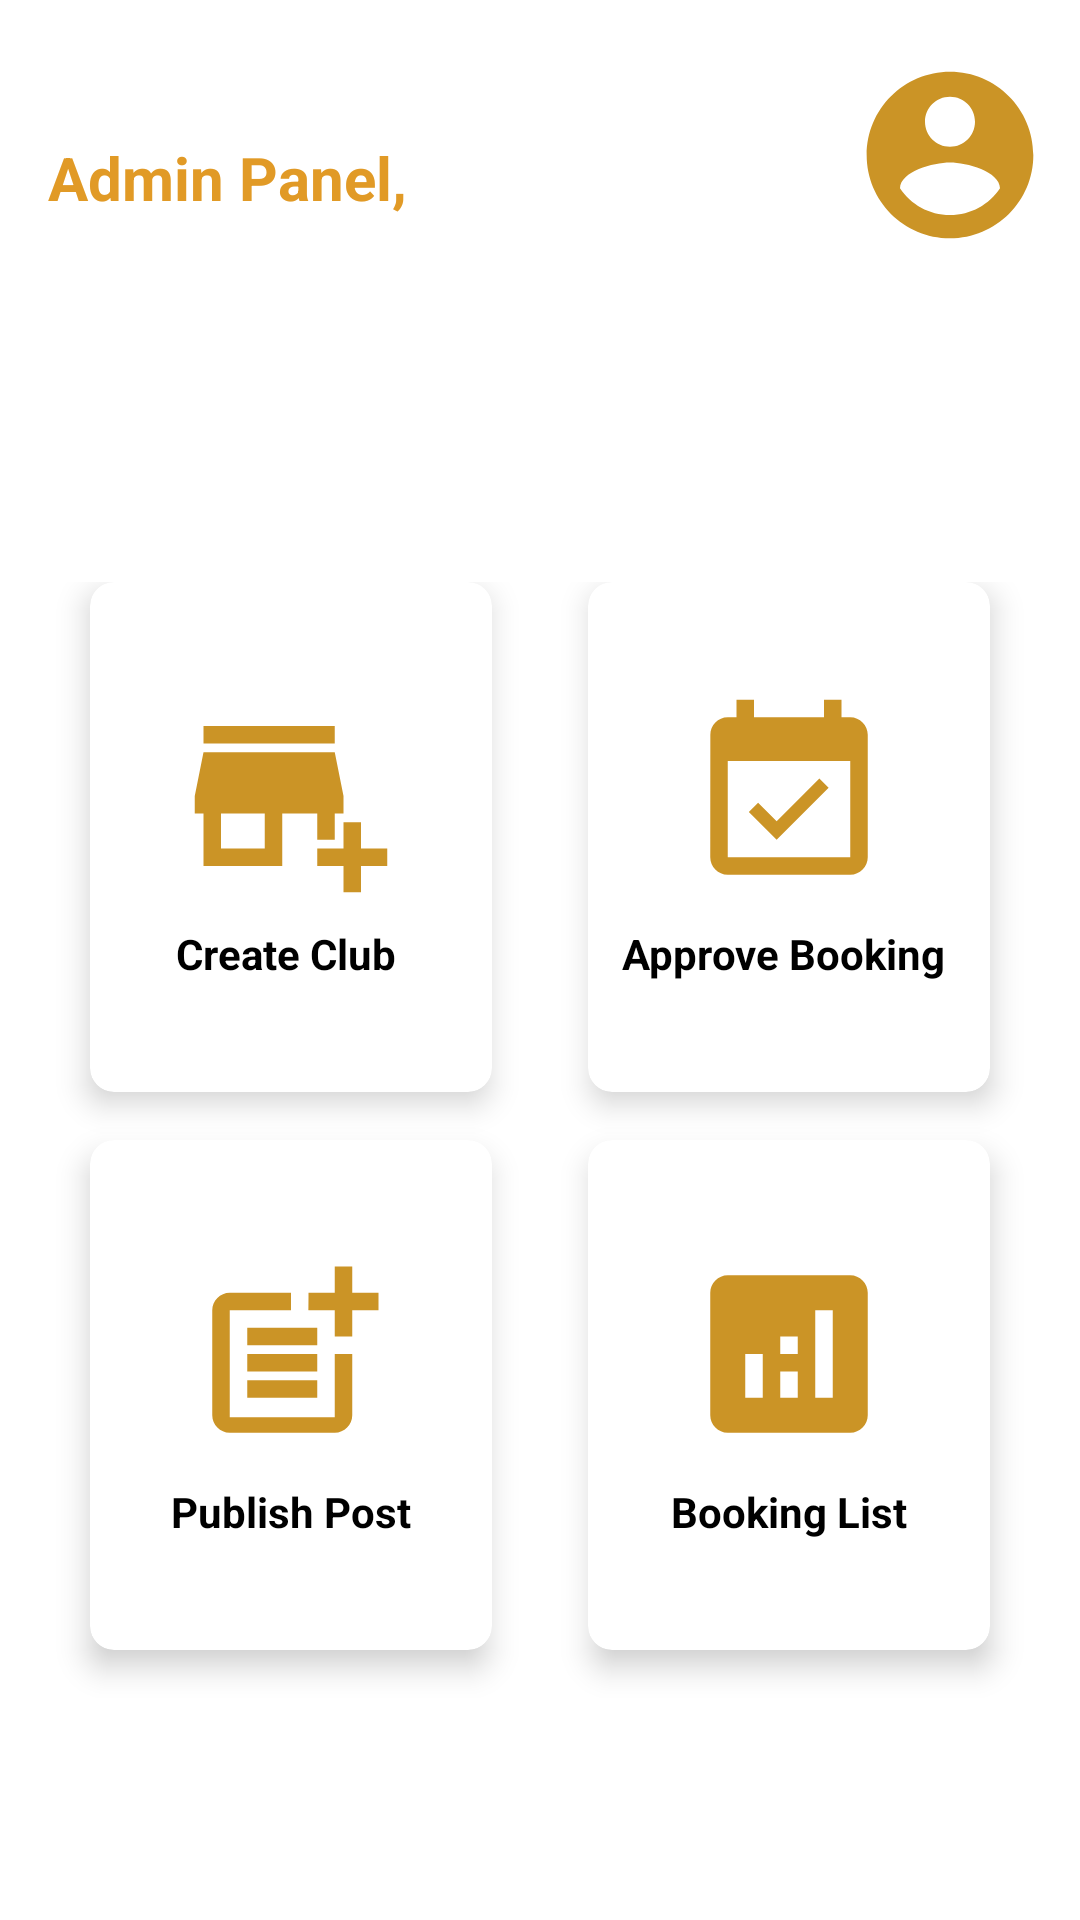

Icons on this 1080px x 1920px Android screen, each with the point to tap as (x=x, y=y):
book room: (x=789, y=787)
profile: (x=950, y=155)
report: (x=789, y=1354)
